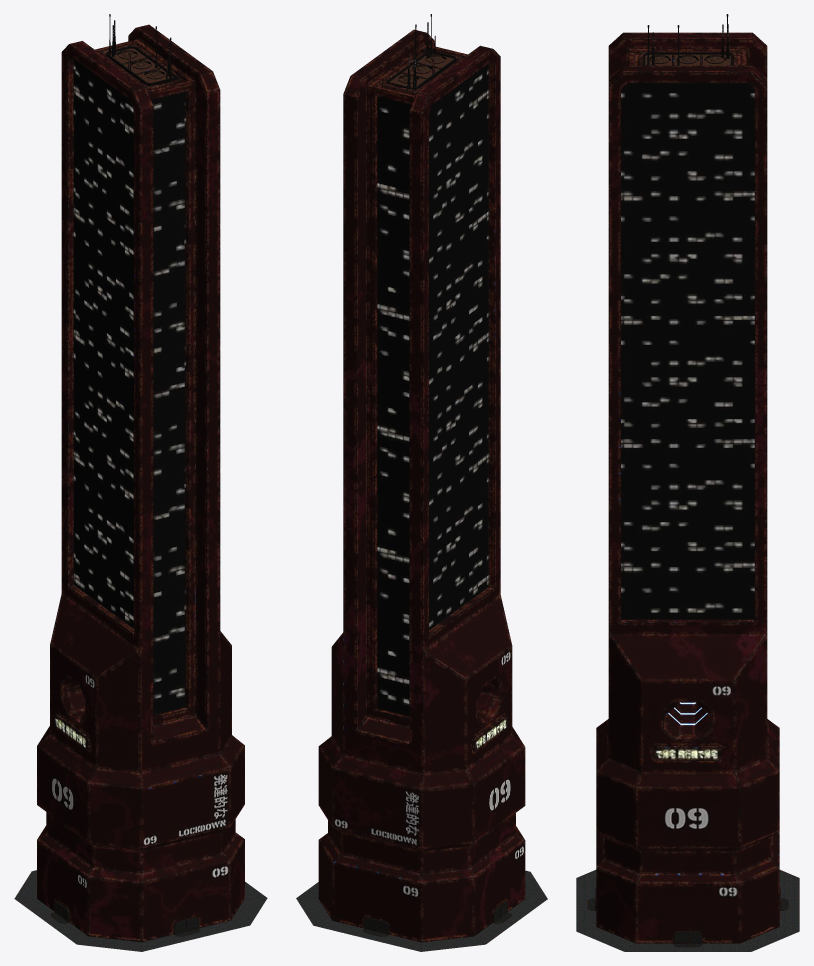
The model's file is sci-fi-building-6_1.glb.
3 views of the same model, side by side, from view 1: azimuth 30°, elevation 25°; view 2: azimuth 150°, elevation 25°; view 3: azimuth 270°, elevation 25° (orthographic).
Parts seen in each view (by area): view 1: 1k_scifi_building_09.003; view 2: 1k_scifi_building_09.003; view 3: 1k_scifi_building_09.003.
Part boxes in pixels (x1,y1,x2,y2): 1k_scifi_building_09.003: [14, 14, 267, 951]; 1k_scifi_building_09.003: [296, 14, 547, 951]; 1k_scifi_building_09.003: [576, 14, 799, 951].
Bounding box in the file's own units: 129 × 563 × 129.
Materials: 1 (1 with a texture image).
